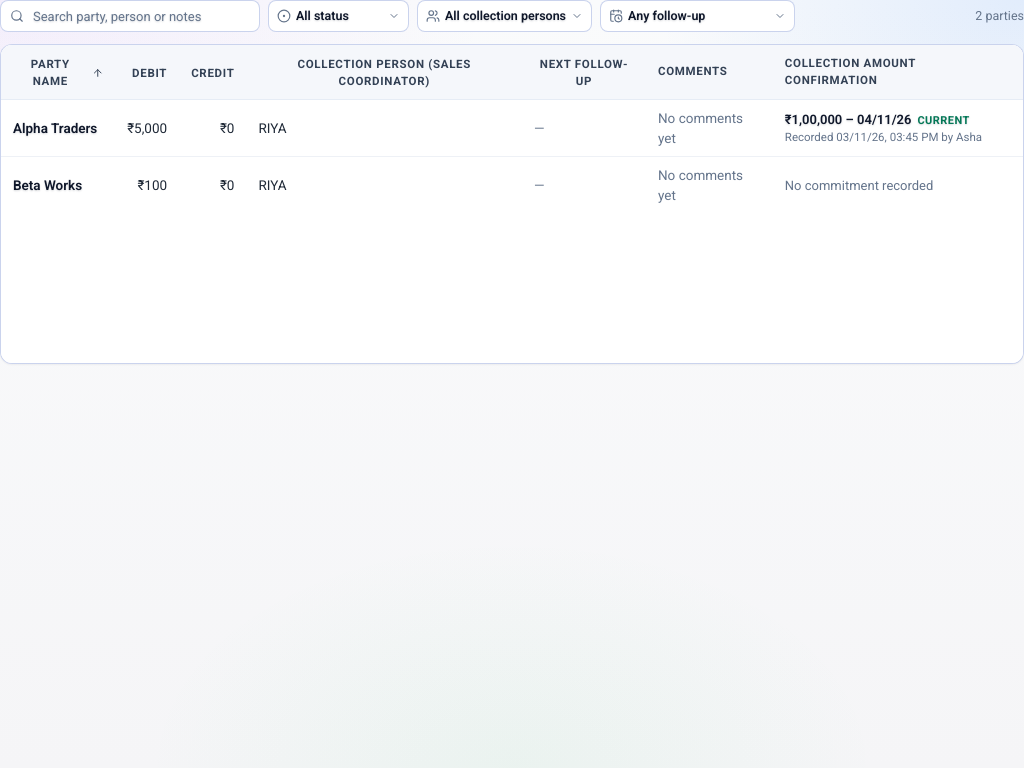
Scenario: the popup's commitment history › recording a new commitment shows it as the one latest record and refreshes the Tracker behind the popup
The image size is (1024, 768).
Click the button "Alpha Traders".
click(55, 128)  # box [13, 118, 97, 138]
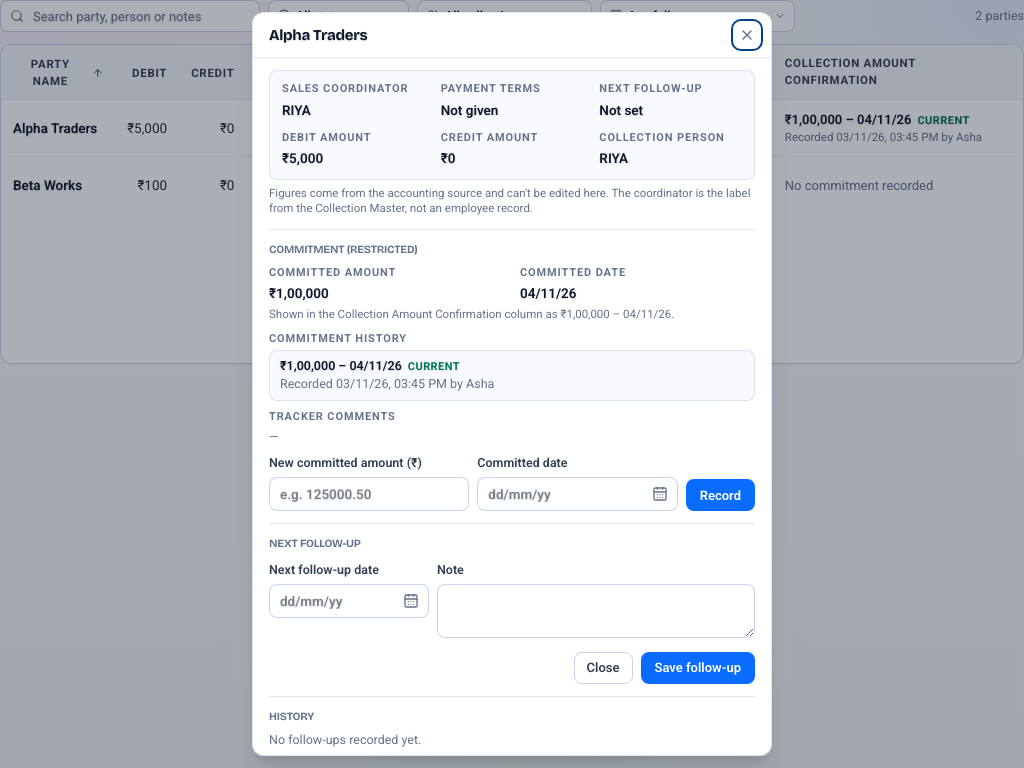
Check: the list named "Commitment history" is shown, box [269, 350, 755, 401]
Type "90000" into the field named "Committed amount for Alpha Traders".
click(369, 494); type("90000")  # box [269, 477, 469, 512]
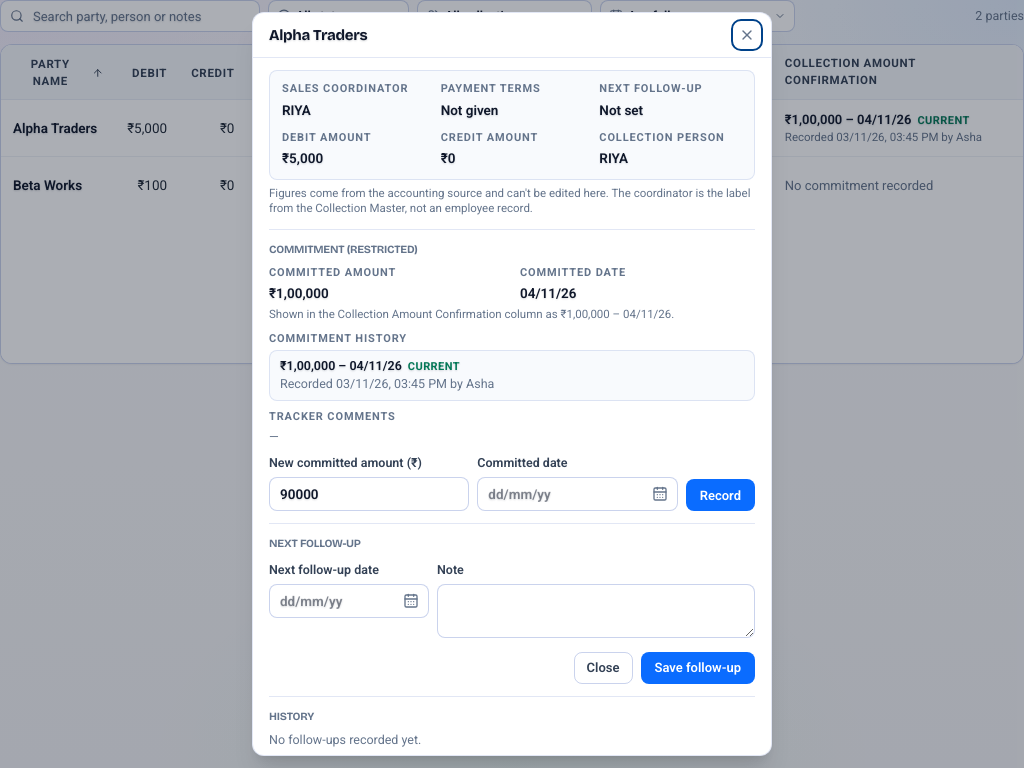
Type "2026-11-20" into the field named "Committed date for Alpha Traders".
click(578, 494); type("2026-11-20")  # box [477, 477, 678, 512]
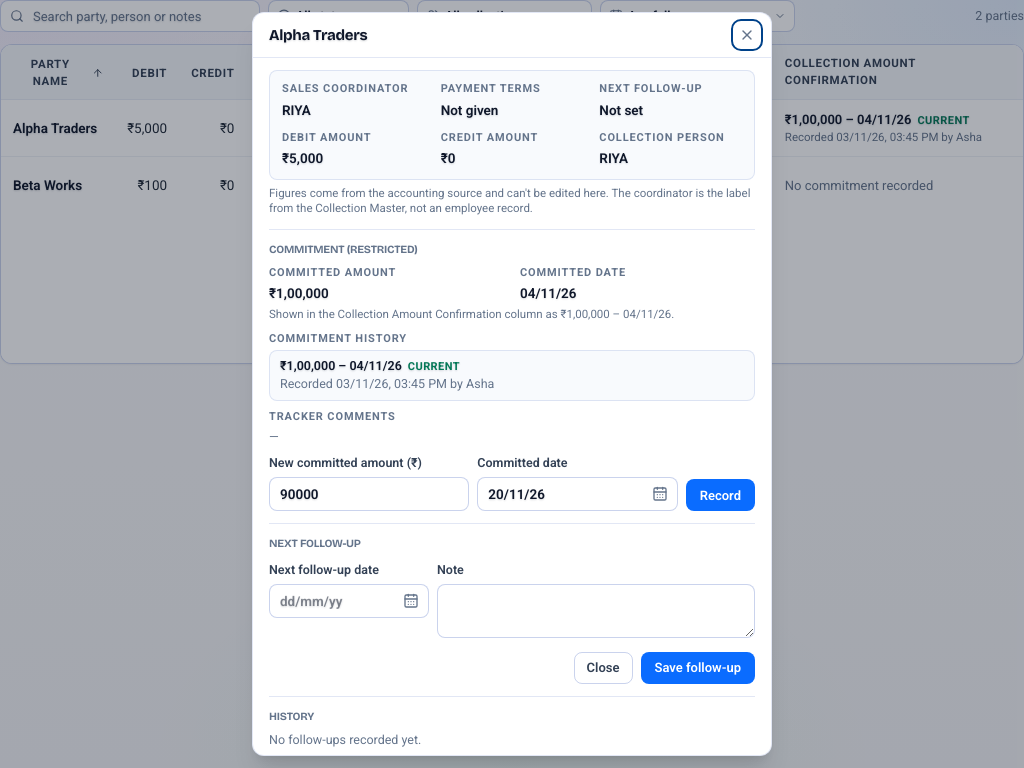
Click the button "Record".
click(720, 495)  # box [686, 479, 755, 511]
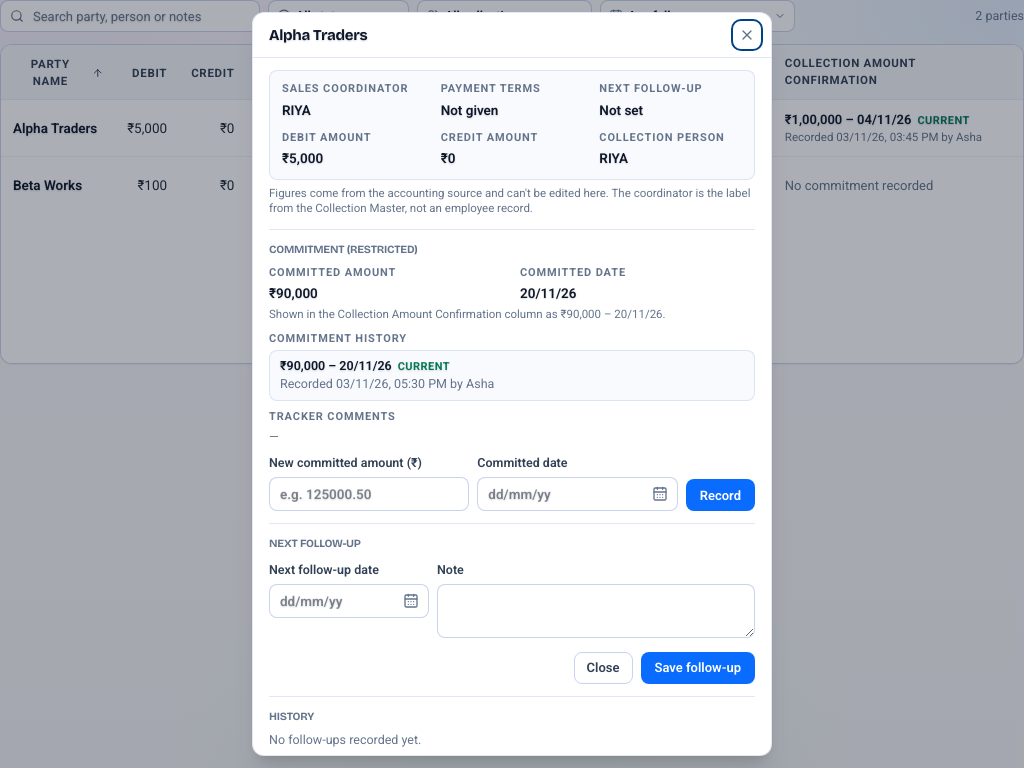
Check: the element "Commitment" does not show "₹1,00,000 – 04/11/26"
Check: the number of list items is 1, box [269, 350, 755, 401]
Check: the list item shows "₹90,000 – 20/11/26", box [280, 358, 392, 373]
